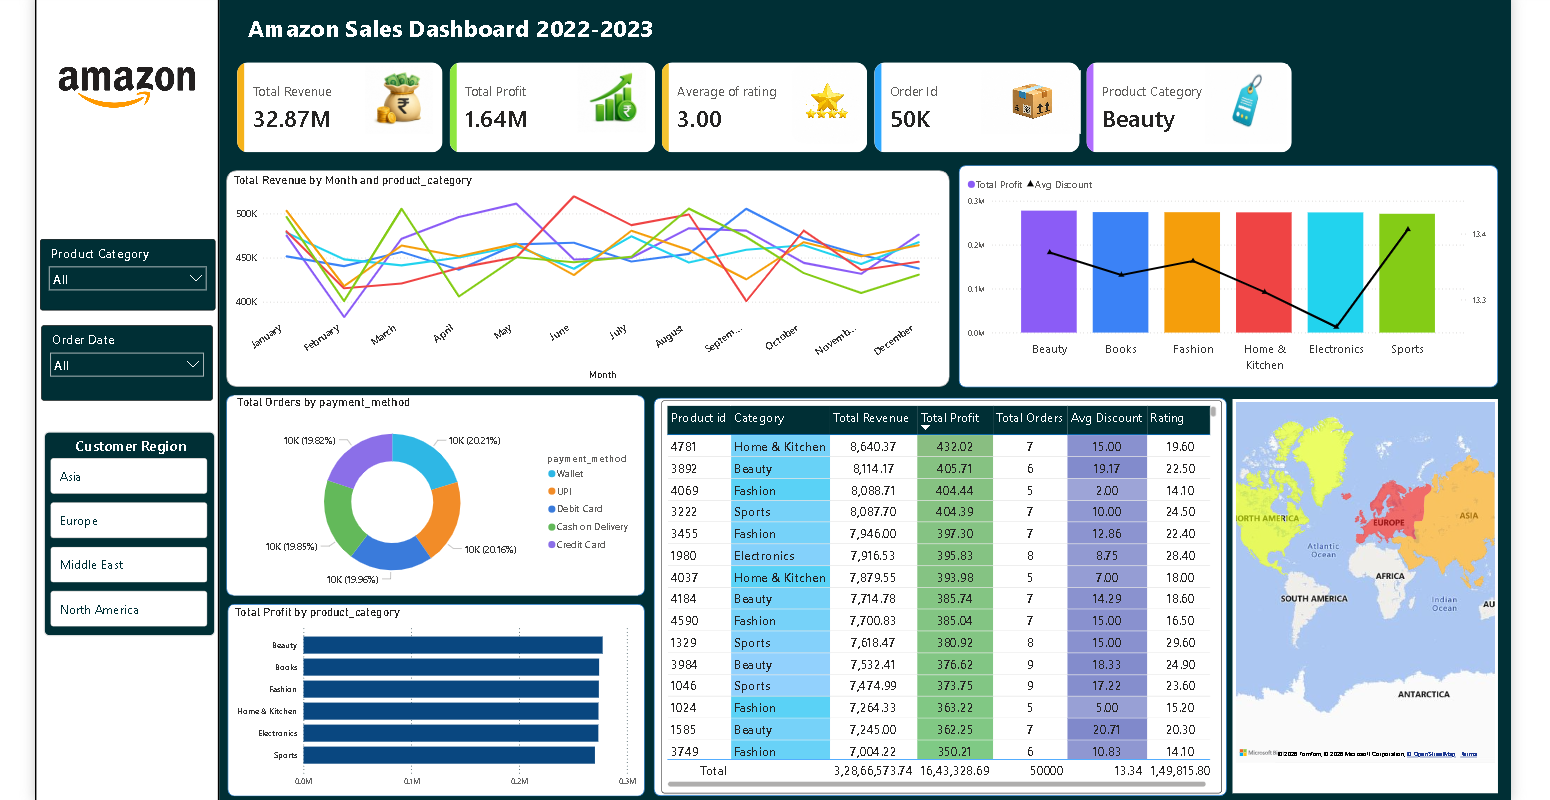

This screenshot's page, from the dashboard's own definition file:
{"tool":"powerbi","page":{"name":"Page 1","canvas":[2100,1150],"ordinal":0},"visuals":[{"type":"shape","box":[880.6,574.2,815.1,566.5],"z":0},{"type":"shape","box":[273.6,867.1,593.5,273.6],"z":1000},{"type":"shape","box":[271.7,570.4,595.4,285.2],"z":2000},{"type":"shape","box":[1314.2,242.8,766.9,316],"z":3000},{"type":"shape","box":[271.7,250.5,1029,308.3],"z":4000},{"type":"shape","box":[0,0,262.1,1150.4],"z":5000},{"type":"cardVisual","fields":{"Data":["cleaned_dataset.Total Revenue","cleaned_dataset.Total Profit","Avg(cleaned_dataset.rating)","CountNonNull(cleaned_dataset.order_id)","Min(cleaned_dataset.product_category)"]},"box":[283.3,91.9,1512.2,138.8],"z":6000},{"type":"lineChart","fields":{"Series":["cleaned_dataset.product_category"],"Y":["cleaned_dataset.Total Revenue"],"Category":["cleaned_dataset.order_date.Variation.Date Hierarchy.Month"]},"box":[277.5,254.4,1017.4,300.6],"z":7000},{"type":"clusteredBarChart","fields":{"Category":["cleaned_dataset.product_category"],"Y":["cleaned_dataset.Total Profit"]},"box":[279.4,869.1,581.9,267.8],"z":8000},{"type":"donutChart","fields":{"Category":["cleaned_dataset.payment_method"],"Y":["cleaned_dataset.Total Orders"]},"box":[283.3,570.4,574.2,285.2],"z":9000},{"type":"filledMap","fields":{"Series":["cleaned_dataset.customer_region"],"Category":["cleaned_dataset.customer_region"]},"box":[1703.4,576.2,377.7,560.7],"z":10000},{"type":"slicer","fields":{"Values":["cleaned_dataset.order_date"]},"box":[9.4,470.9,243.9,106.9],"z":11000},{"type":"advancedSlicerVisual","title":"Customer Region","fields":{"Values":["cleaned_dataset.customer_region"]},"box":[13.1,622.9,243.9,290.8],"z":12000},{"type":"slicer","fields":{"Values":["cleaned_dataset.product_category"]},"box":[7.5,349,249.5,101.3],"z":13000},{"type":"lineStackedColumnComboChart","fields":{"Y":["cleaned_dataset.Total Profit"],"Y2":["cleaned_dataset.Avg Discount"],"Category":["cleaned_dataset.product_category"]},"box":[1321.9,250.5,749.6,294.8],"z":14000},{"type":"cardVisual","fields":{"Data":["cleaned_dataset.PROJECT TITAL"]},"box":[262.7,0,656.7,91.9],"z":15000},{"type":"image","box":[459.7,101.3,114.4,97.6],"z":16000},{"type":"image","box":[737.3,99.4,165.1,97.6],"z":17000},{"type":"image","box":[1076.4,99.5,103.2,112.4],"z":18000},{"type":"image","box":[1664.4,99.5,118,112.4],"z":19000},{"type":"image","box":[1345.5,108.7,141.9,90.3],"z":20000},{"type":"tableEx","fields":{"Values":["cleaned_dataset.product_id","cleaned_dataset.product_category","cleaned_dataset.Total Revenue","cleaned_dataset.Total Profit","cleaned_dataset.Total Orders","cleaned_dataset.Avg Discount","Sum(cleaned_dataset.rating)"]},"box":[890.3,578.1,797.8,558.8],"z":21000},{"type":"image","box":[3.9,0,254.4,265.9],"z":21001}]}

Visuals, with their boxes in screenshot pixels (x1, y1, x2, y2):
shape: locate(654, 396, 1233, 798)
shape: locate(223, 604, 644, 798)
shape: locate(221, 393, 644, 596)
shape: locate(962, 160, 1507, 385)
shape: locate(221, 166, 952, 385)
shape: locate(28, 0, 214, 799)
cardVisual - cleaned_dataset.Total Revenue x cleaned_dataset.Total Profit: locate(230, 53, 1304, 152)
lineChart - cleaned_dataset.product_category x cleaned_dataset.Total Revenue: locate(225, 169, 948, 382)
clusteredBarChart - cleaned_dataset.product_category x cleaned_dataset.Total Profit: locate(227, 605, 640, 796)
donutChart - cleaned_dataset.payment_method x cleaned_dataset.Total Orders: locate(230, 393, 638, 596)
filledMap - cleaned_dataset.customer_region x cleaned_dataset.customer_region: locate(1239, 397, 1507, 796)
slicer - cleaned_dataset.order_date: locate(35, 322, 208, 398)
"Customer Region" advancedSlicerVisual: locate(38, 430, 211, 637)
slicer - cleaned_dataset.product_category: locate(34, 236, 211, 308)
lineStackedColumnComboChart - cleaned_dataset.Total Profit x cleaned_dataset.Avg Discount: locate(968, 166, 1500, 375)
cardVisual - cleaned_dataset.PROJECT TITAL: locate(215, 0, 682, 53)
image: locate(355, 60, 436, 129)
image: locate(552, 59, 669, 128)
image: locate(793, 59, 866, 138)
image: locate(1211, 59, 1295, 138)
image: locate(984, 65, 1085, 129)
tableEx - cleaned_dataset.product_id x cleaned_dataset.product_category: locate(661, 399, 1228, 796)
image: locate(31, 0, 212, 177)
